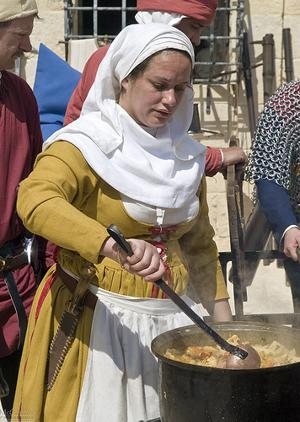person: (11, 25, 234, 422)
